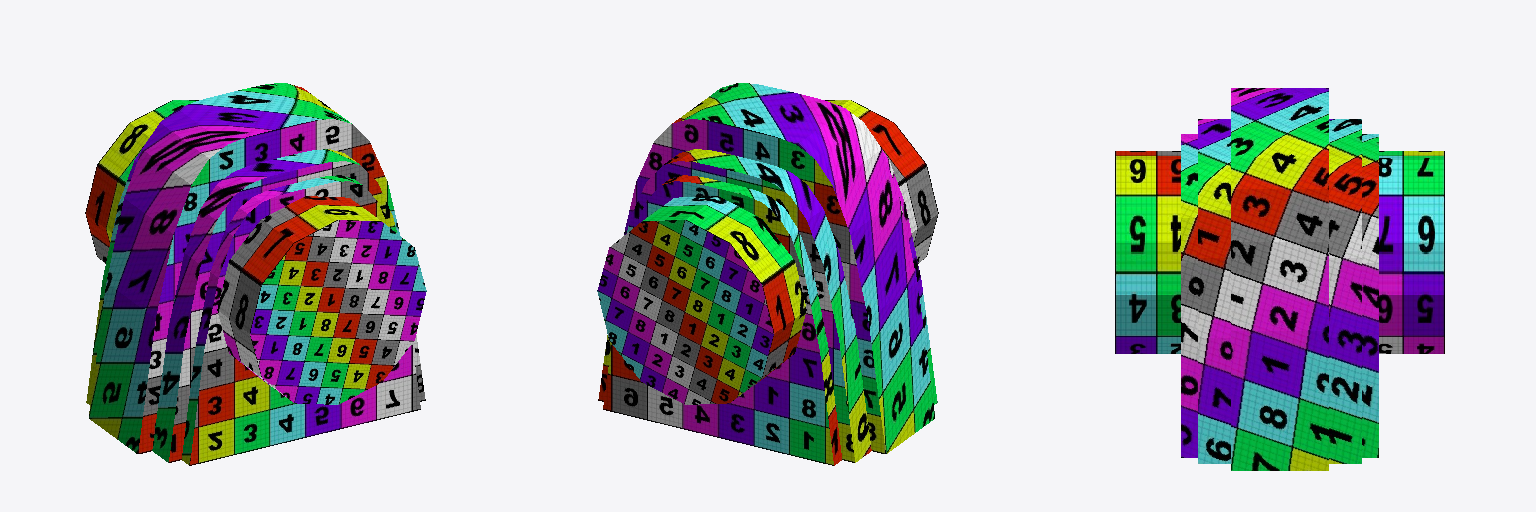
The picture shows the model from 3 angles: view 1: azimuth 30°, elevation 25°; view 2: azimuth 150°, elevation 25°; view 3: azimuth 270°, elevation 25°; orthographic projection.
Visible parts, largest first — view 1: pipe; view 2: pipe; view 3: pipe.
Part boxes in pixels (x1,y1,x2,y2): pipe: (85, 83, 426, 465); pipe: (597, 83, 938, 465); pipe: (1115, 88, 1444, 470).
Size of the model in its own units: 1 by 0.975 by 1.
Materials: 1 (1 with a texture image).